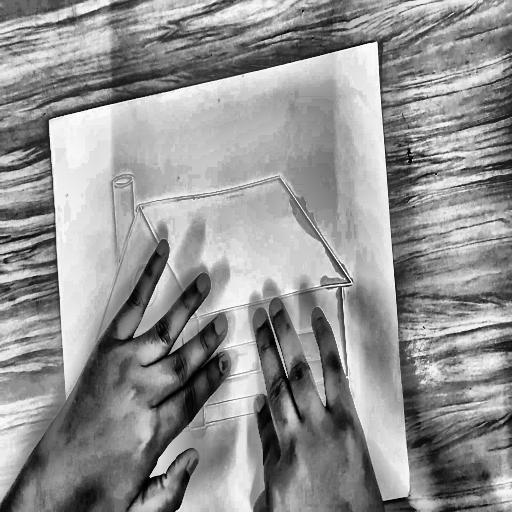bottom_right: (404, 487, 414, 502)
house: (77, 108, 368, 473)
top_left: (44, 113, 55, 130)
top_right: (371, 34, 384, 54)
